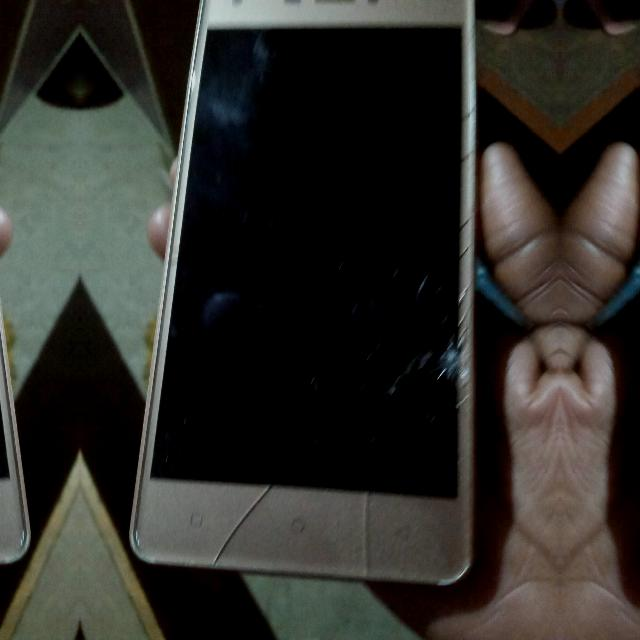phone_screen: (152, 29, 461, 496), (0, 412, 7, 478)
